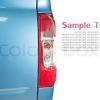Taillight-Damage: (32, 9, 60, 89)
